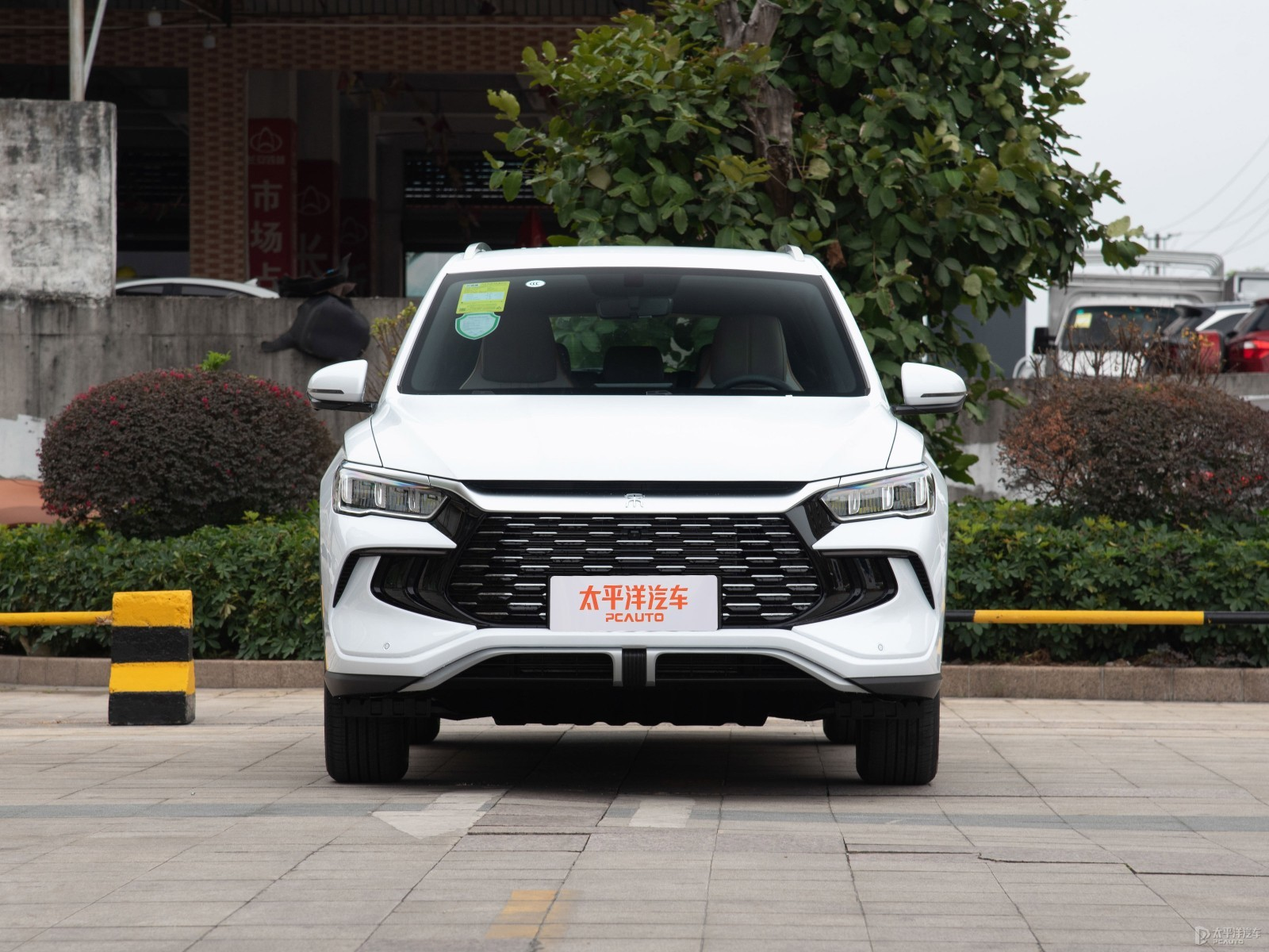BYD Song: (624, 493, 645, 507)
